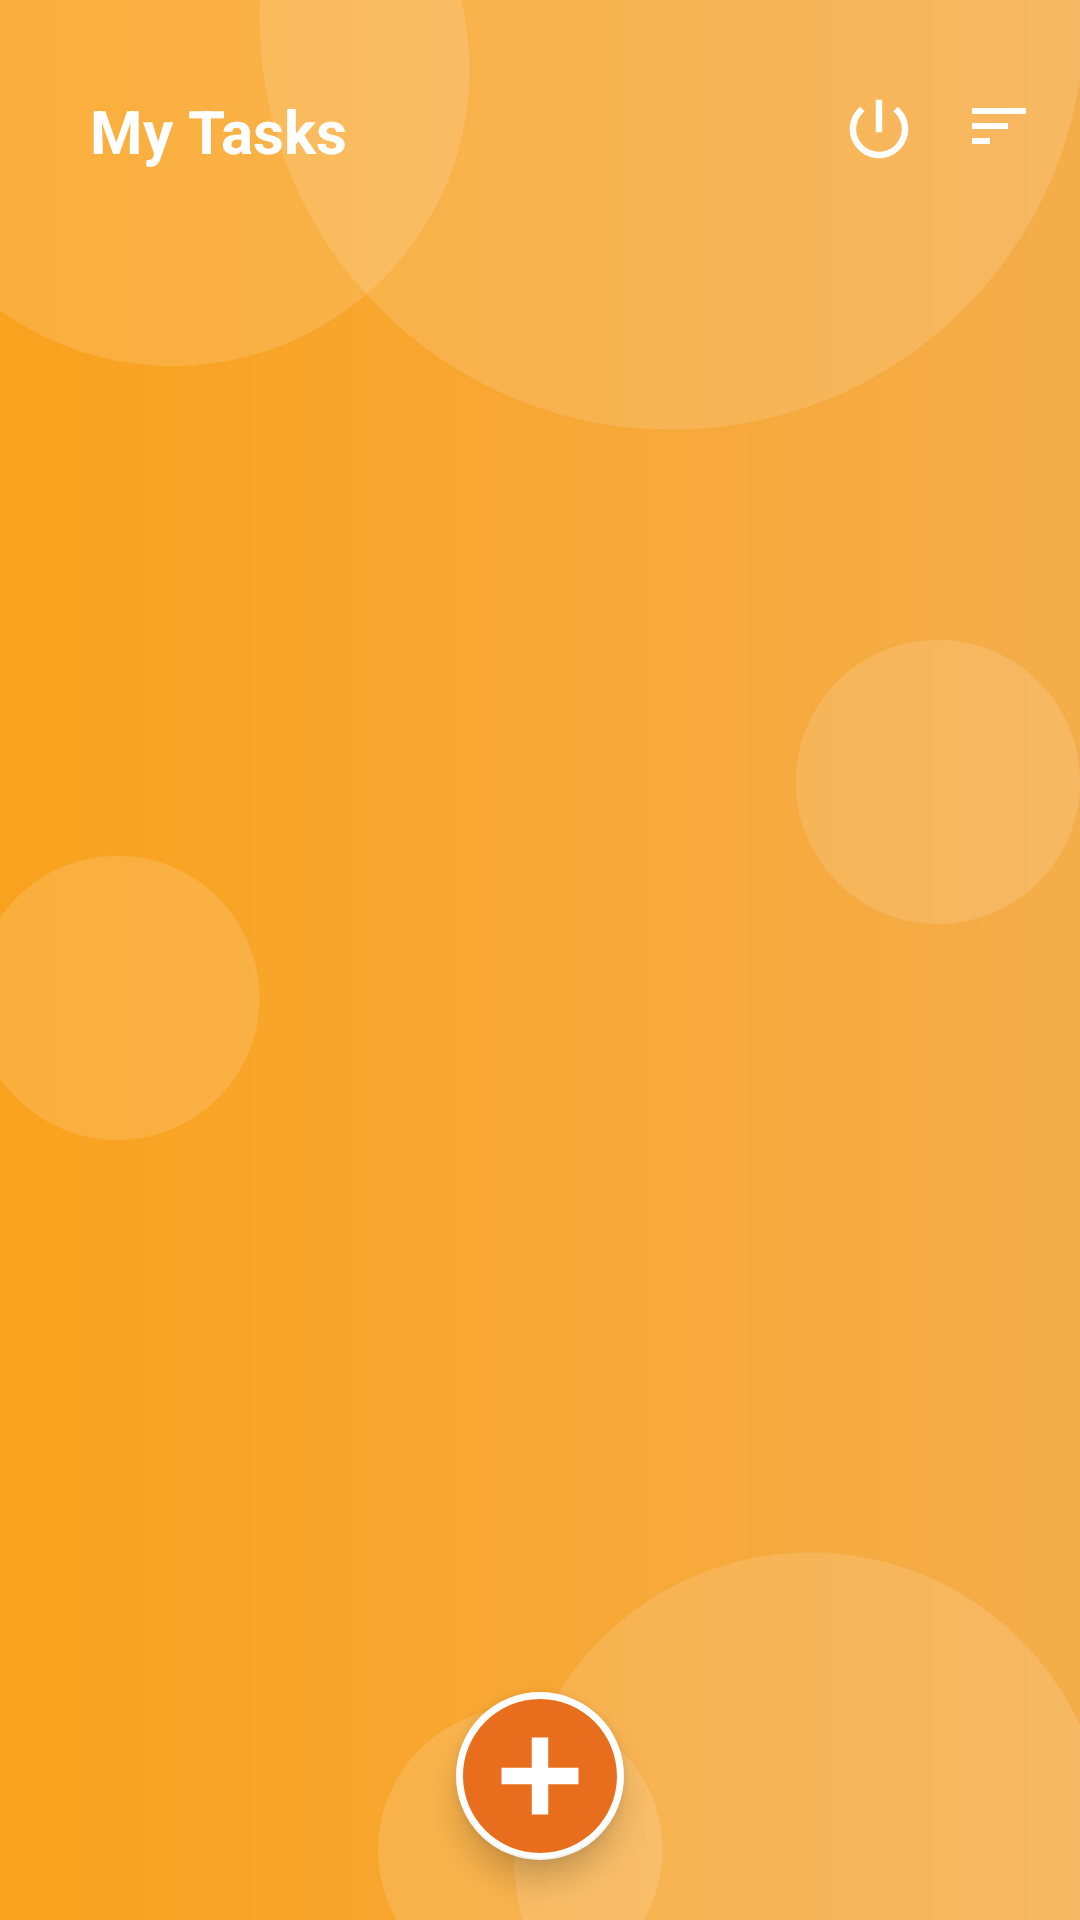

Named icons in this screenshot (1080px×1920px) and their bounding boxes, (x1, y1, x2, y2):
add: (456, 1692, 624, 1860)
power settings: (849, 99, 909, 159)
sort: (972, 108, 1026, 144)
